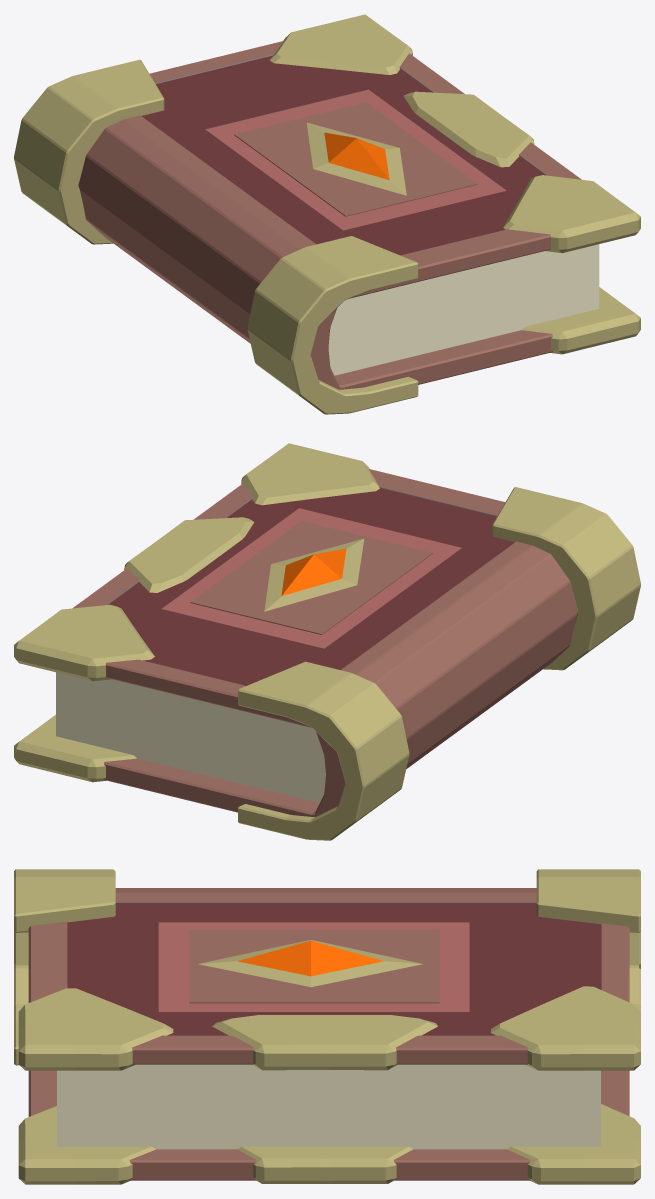
Rendered from Tome.fbx.
3 views of the same model, one above another, from view 1: azimuth 30°, elevation 25°; view 2: azimuth 150°, elevation 25°; view 3: azimuth 270°, elevation 25° (orthographic). The views are drawn at different scales.
Visible parts, largest first — view 1: Tome; view 2: Tome; view 3: Tome.
Boxes of the visible parts, left/top/right/bottom form: Tome: left=14, top=14, right=640, bottom=414; Tome: left=14, top=443, right=640, bottom=840; Tome: left=14, top=869, right=640, bottom=1184.
Bounding box in the file's own units: 253 × 99.57 × 345.
